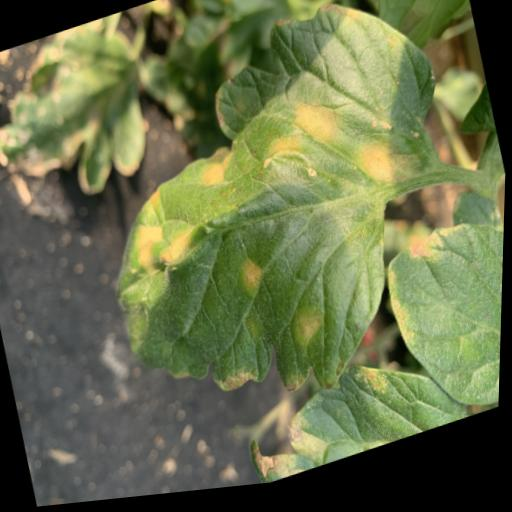Leaf Mold: (65, 0, 497, 465), (241, 341, 478, 491), (374, 212, 506, 445)
